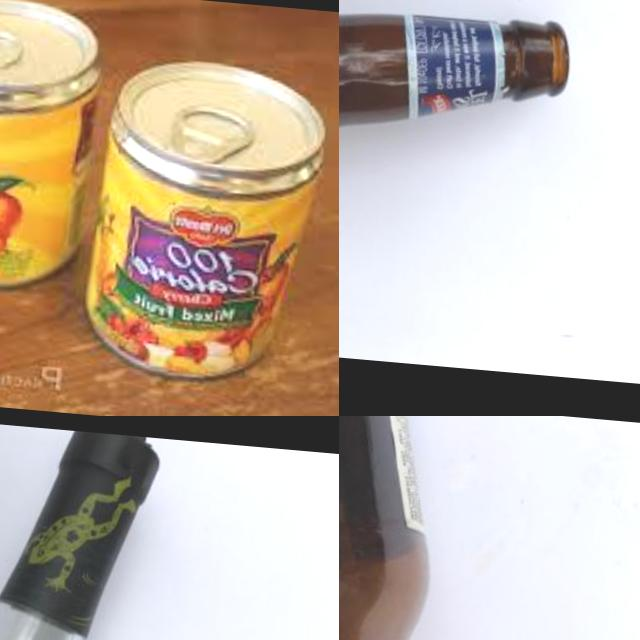aba de lata: (167, 100, 260, 164), (0, 11, 22, 70)
garrafa de vidro: (339, 0, 574, 213), (0, 416, 159, 640), (339, 416, 442, 640)
lata: (76, 49, 334, 384), (0, 0, 106, 293)
